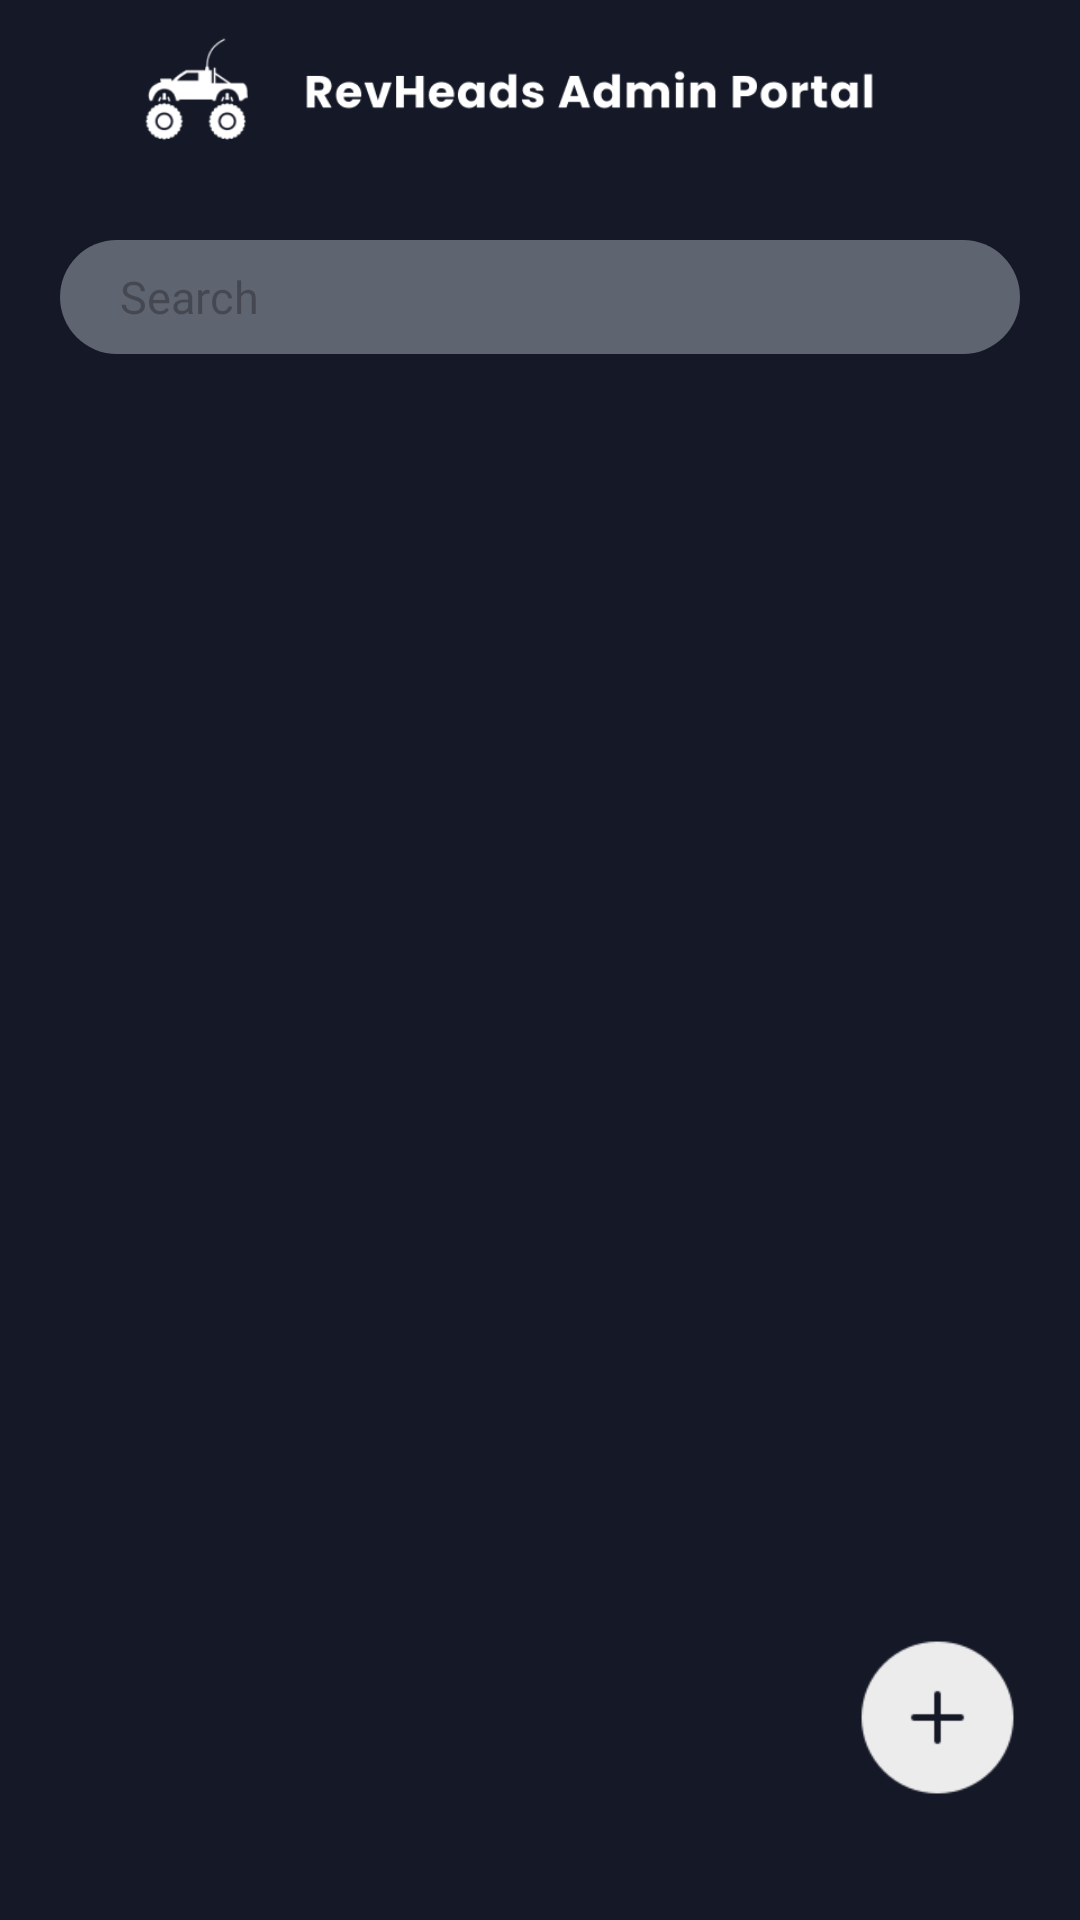

Point at icon controls on the screen. Image size 1080 x 1920, points as (x,y).
add: (937,1717)
